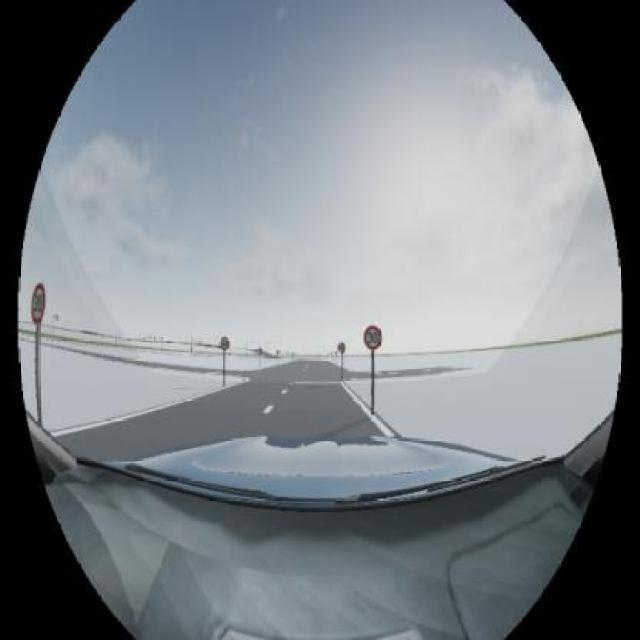forb_speed_over_30: (363, 325, 382, 349)
